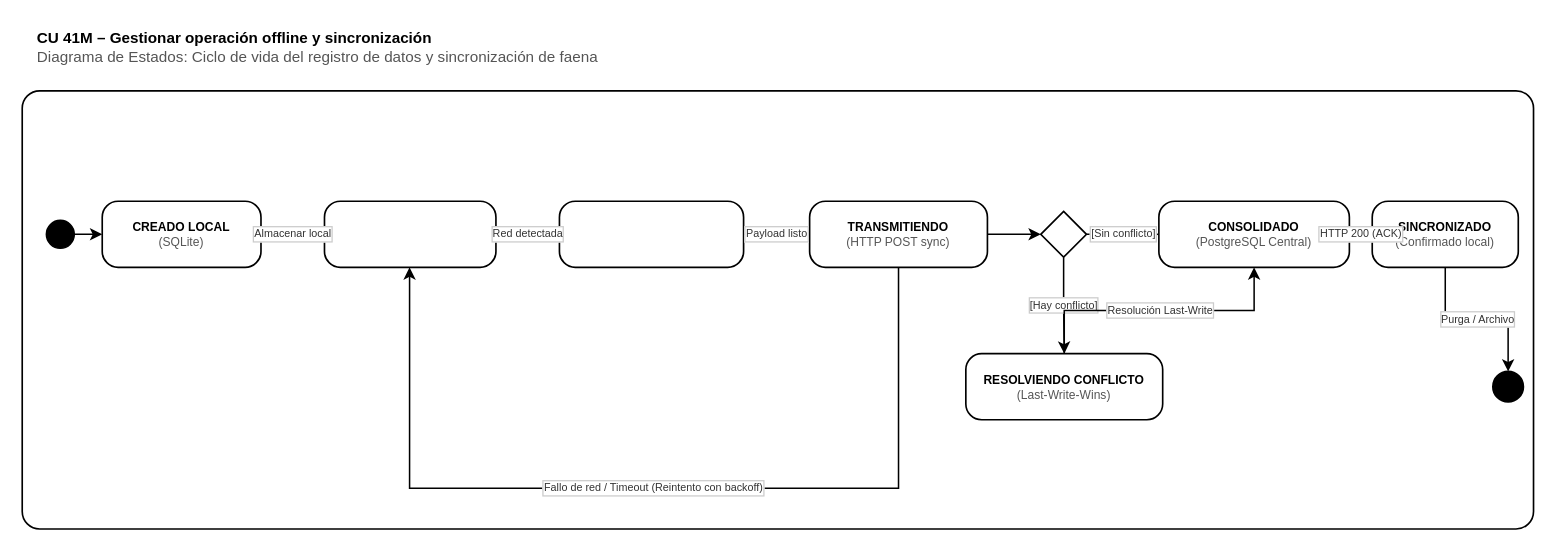
The diagram is 1557 pixels wide and 551 high, and some of its shapes have lost their labels. Each missing label, with the centre of its shape:
"EMPAQUETANDO LOTE (JSON + Checksum)" goes at (651,234).
"EN ESPERA DE RED (Cola offline)" goes at (409,234).
